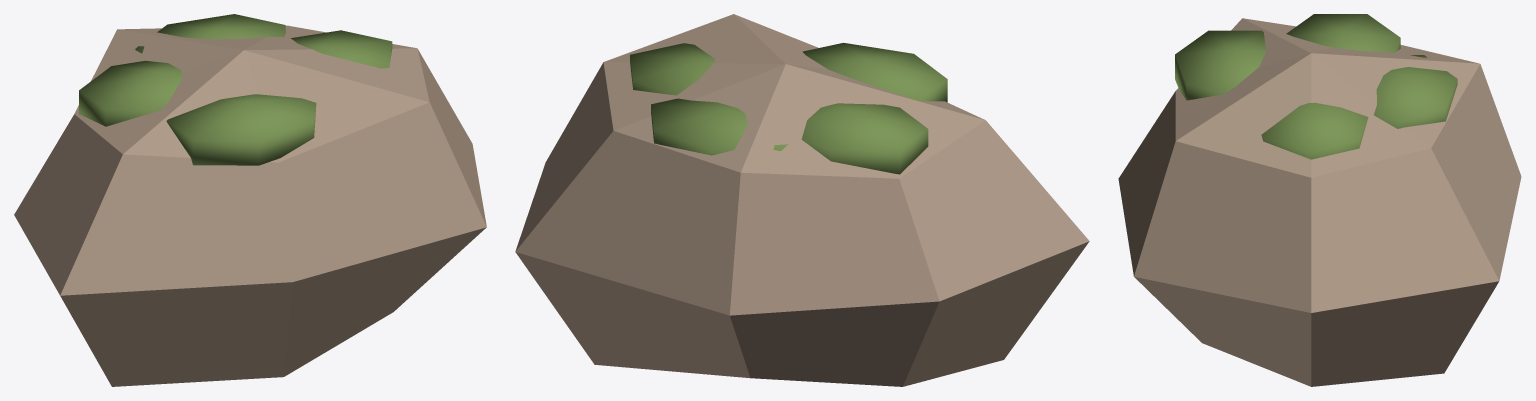
The model's file is rock_deco_3.glb.
3 views of the same model, side by side, from view 1: azimuth 30°, elevation 25°; view 2: azimuth 150°, elevation 25°; view 3: azimuth 270°, elevation 25° (orthographic). The views are drawn at different scales.
Parts seen in each view (by area): view 1: rock_deco_3; view 2: rock_deco_3; view 3: rock_deco_3.
Boxes of the visible parts, x1,y1,x2,y2 form: rock_deco_3: [14, 14, 486, 386]; rock_deco_3: [515, 14, 1089, 386]; rock_deco_3: [1118, 14, 1521, 386].
Size of the model in its own units: 2.25 by 1.38 by 1.69.
